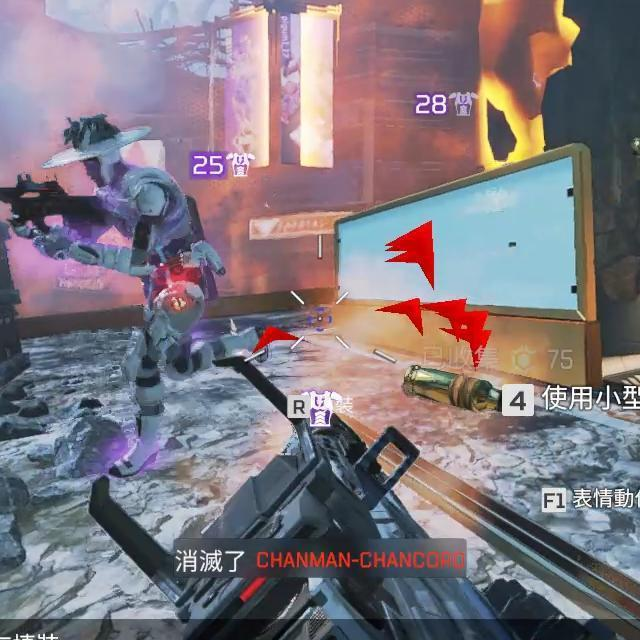avatar: (66, 116, 213, 478)
